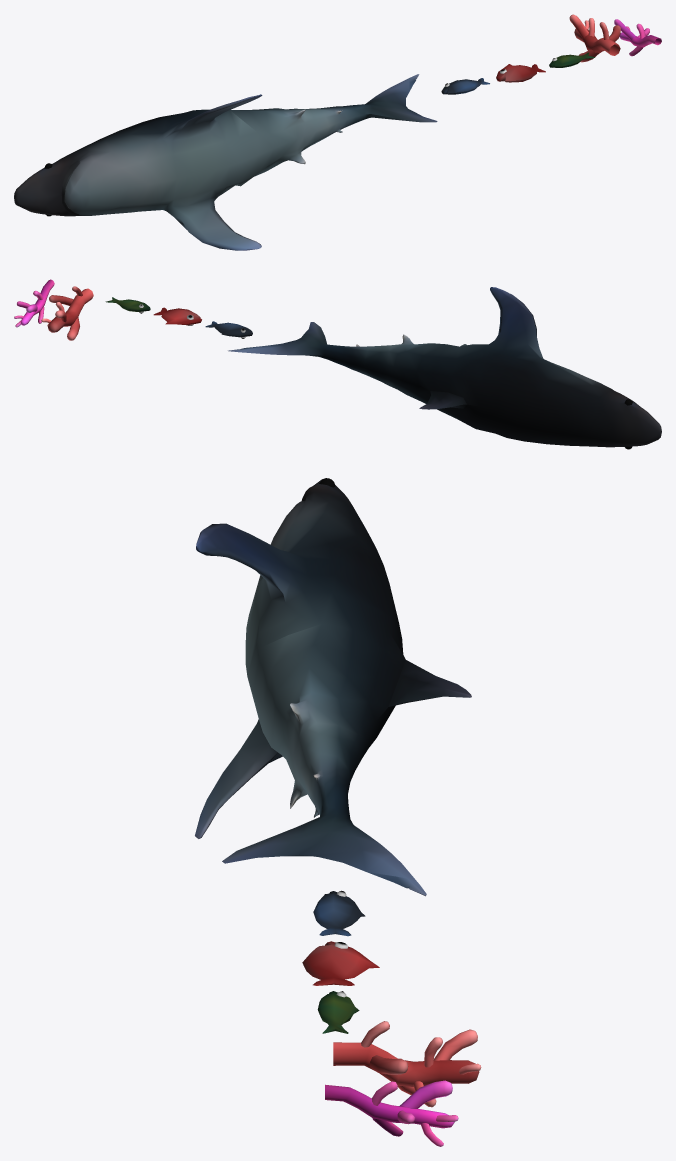
Rendered from fishes02.fbx.
3 renders of one model, top to bottom at view 1: azimuth 30°, elevation 25°; view 2: azimuth 150°, elevation 25°; view 3: azimuth 270°, elevation 25°, orthographic. The views are drawn at different scales.
Visible parts, largest first — view 1: SM_Shark01, SM_Coral01, SM_Coral02, SM_Fish02, SM_Fish01, SM_Fish03; view 2: SM_Shark01, SM_Coral01, SM_Coral02, SM_Fish02, SM_Fish01, SM_Fish03; view 3: SM_Shark01, SM_Coral01, SM_Coral02, SM_Fish02, SM_Fish01, SM_Fish03.
Part boxes in pixels (x1,y1,x2,y2): SM_Shark01: (14, 74, 437, 250); SM_Coral01: (569, 14, 620, 62); SM_Coral02: (614, 19, 661, 56); SM_Fish02: (496, 64, 545, 82); SM_Fish01: (441, 78, 489, 94); SM_Fish03: (549, 52, 595, 67); SM_Shark01: (228, 287, 661, 449); SM_Coral01: (41, 286, 93, 340); SM_Coral02: (14, 279, 54, 327); SM_Fish02: (153, 307, 201, 325); SM_Fish01: (205, 321, 252, 338); SM_Fish03: (105, 297, 150, 313); SM_Shark01: (195, 478, 471, 896); SM_Coral01: (333, 1021, 481, 1107); SM_Coral02: (325, 1080, 458, 1146); SM_Fish02: (302, 941, 379, 985); SM_Fish01: (313, 890, 365, 936); SM_Fish03: (317, 991, 359, 1033).
Bounding box in the file's own units: 65.59 × 14.65 × 13.05.
